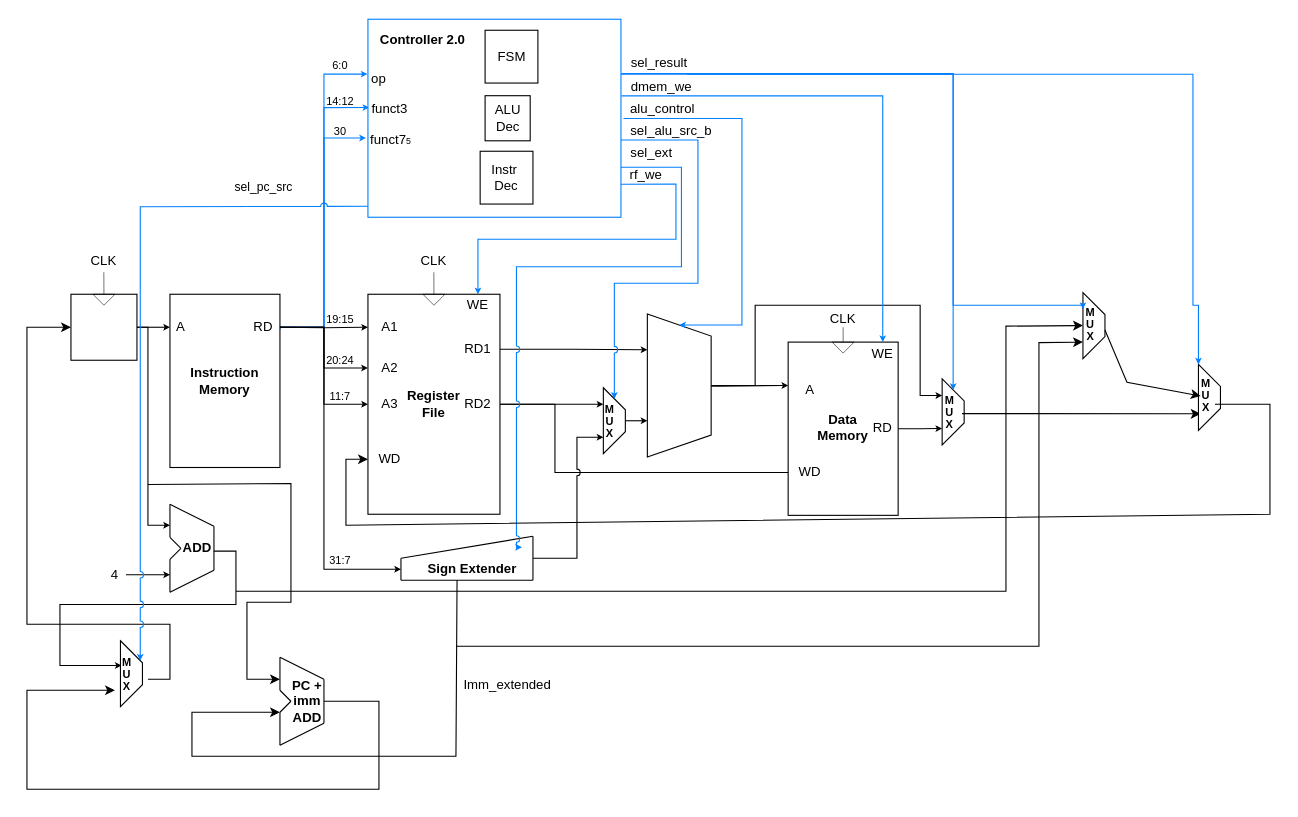
Image size: 1298x817. Some labels were removed from this diagram. Each missing label, with the box of its shape:
ALU: (646, 313, 711, 457)
Program Counter: (70, 293, 137, 360)
